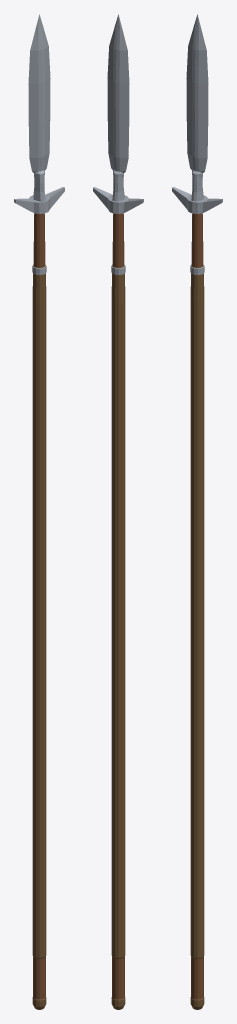
File: Spear.fbx
The picture shows the model from 3 angles, left to right: view 1: azimuth 30°, elevation 25°; view 2: azimuth 150°, elevation 25°; view 3: azimuth 330°, elevation 25°; orthographic projection.
Visible parts, largest first — view 1: Spear 1; view 2: Spear 1; view 3: Spear 1.
Boxes of the visible parts, x1=… form: Spear 1: x1=14, y1=14, x2=64, y2=1009; Spear 1: x1=93, y1=14, x2=143, y2=1009; Spear 1: x1=172, y1=14, x2=222, y2=1009.
Size of the model in its own units: 0.1488 by 2.81 by 0.0529.
